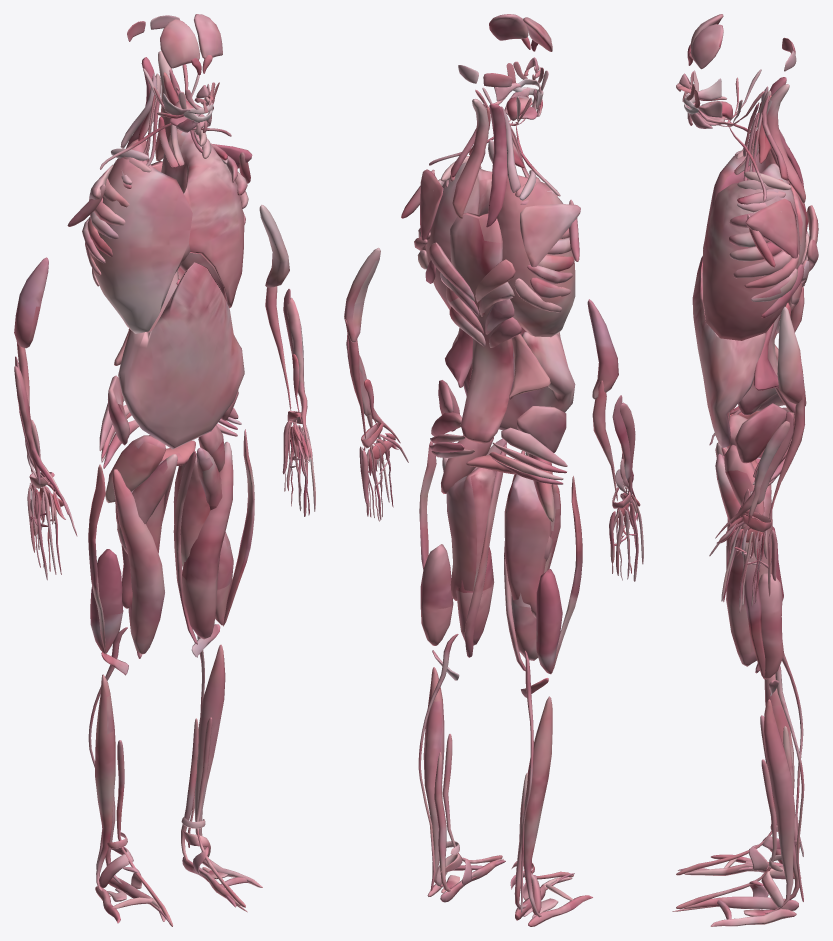
Rendered from mus1.glb.
3 views of the same model, side by side, from view 1: azimuth 30°, elevation 25°; view 2: azimuth 150°, elevation 25°; view 3: azimuth 270°, elevation 25° (orthographic). The views are drawn at different scales.
Parts seen in each view (by area): view 1: model_14; view 2: model_14; view 3: model_14.
Boxes of the visible parts, x1=… form: model_14: x1=14, y1=14, x2=315, y2=926; model_14: x1=344, y1=14, x2=643, y2=926; model_14: x1=672, y1=14, x2=818, y2=926.
Size of the model in its own units: 2.86 by 8.48 by 1.28.
Materials: 1 (1 with a texture image).
